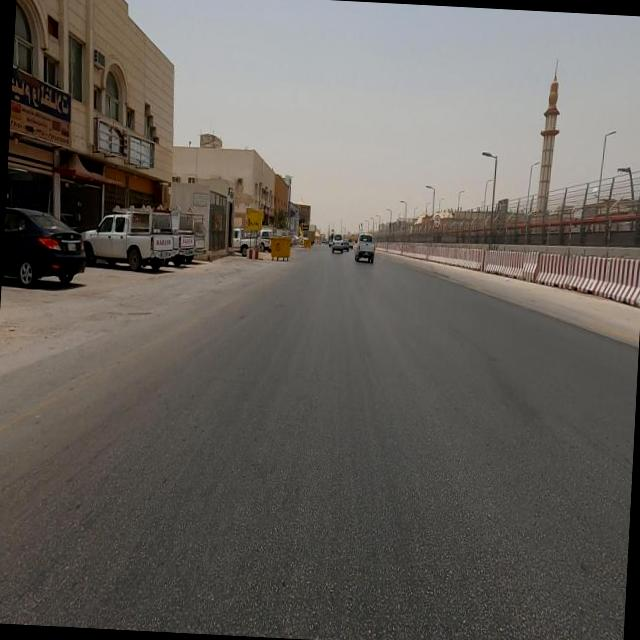debris: (76, 88, 152, 178), (111, 110, 180, 196)
